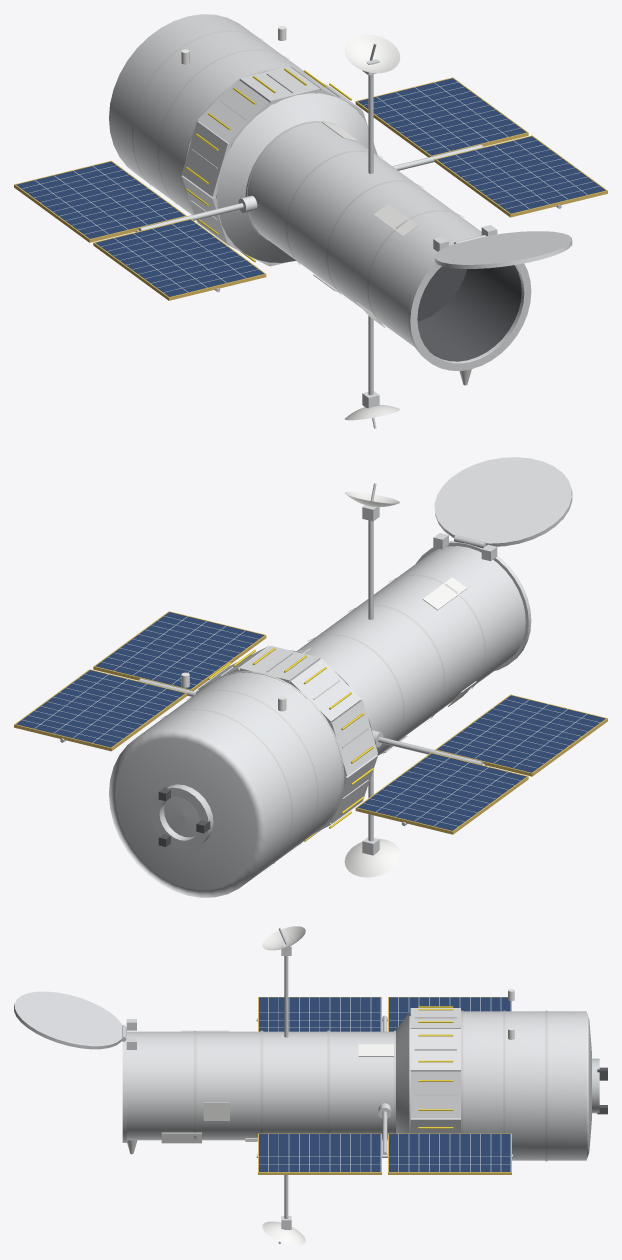
File: satellite-hubble.glb
3 views of the same model, one above another, from view 1: azimuth 30°, elevation 25°; view 2: azimuth 150°, elevation 25°; view 3: azimuth 270°, elevation 25° (orthographic). The views are drawn at different scales.
Visible parts, largest first — view 1: satellite-hubble; view 2: satellite-hubble; view 3: satellite-hubble.
Boxes of the visible parts, x1,y1,x2,y2 form: satellite-hubble: (14, 14, 607, 428); satellite-hubble: (14, 457, 607, 897); satellite-hubble: (14, 926, 607, 1245).
Size of the model in its own units: 11.83 by 9.92 by 16.9.
